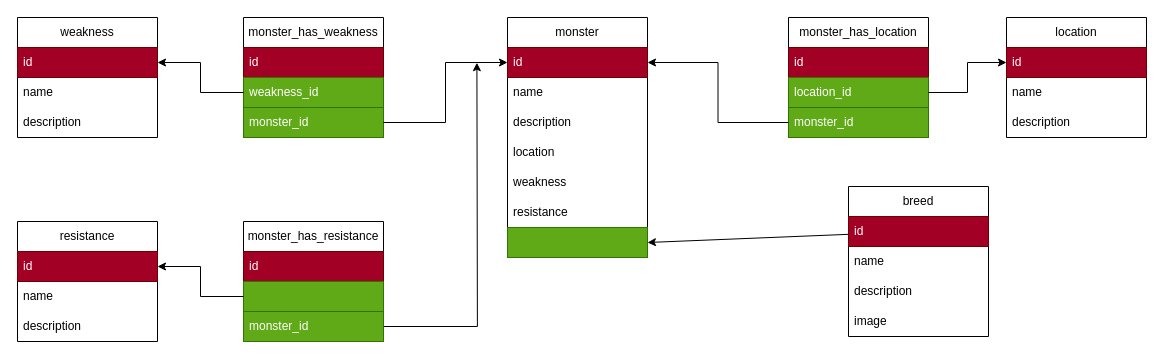
The diagram is 1164 pixels wide and 359 high, and some of its shapes have lost their labels. The shapes that lost their labels are listed below. From the top down, each one's centre as x and y in pixels, then its label:
(577,242): breed_id
(313,296): resistance_id
